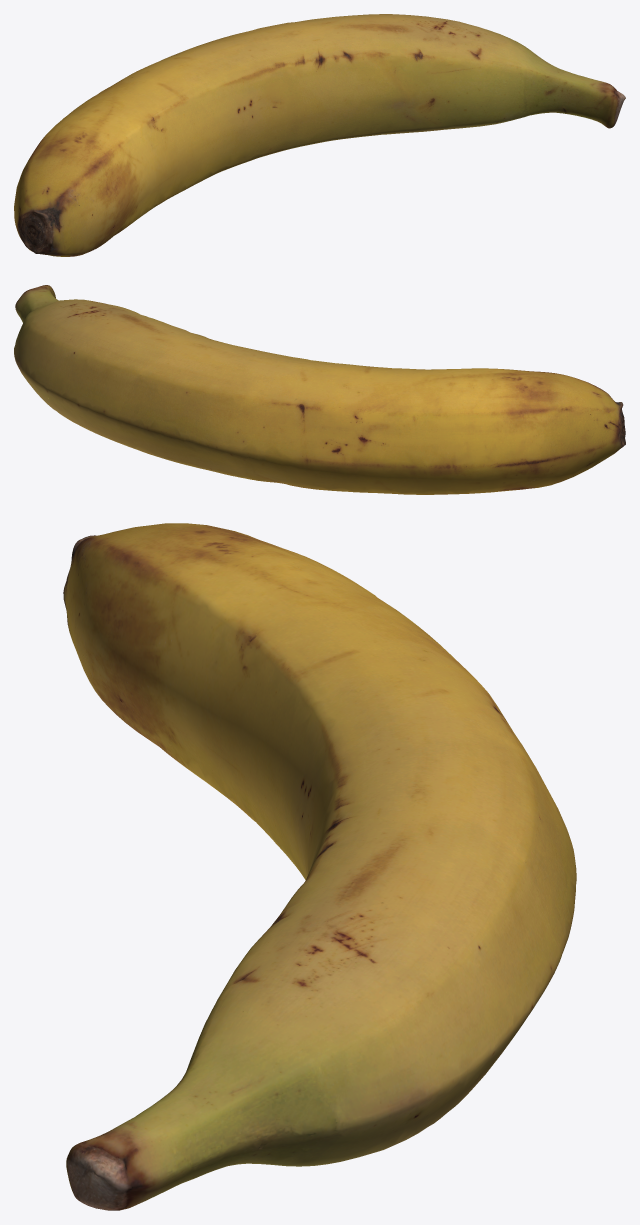
File: BananaMine.glb
3 views of the same model, one above another, from view 1: azimuth 30°, elevation 25°; view 2: azimuth 150°, elevation 25°; view 3: azimuth 270°, elevation 25° (orthographic). The views are drawn at different scales.
Visible parts, largest first — view 1: Banana; view 2: Banana; view 3: Banana.
Part boxes in pixels (x1=…): Banana: x1=14, y1=14, x2=625, y2=256; Banana: x1=14, y1=285, x2=625, y2=494; Banana: x1=63, y1=523, x2=576, y2=1210.
Size of the model in its own units: 0.6458 by 0.1106 by 0.2385.
Materials: 1 (1 with a texture image).
